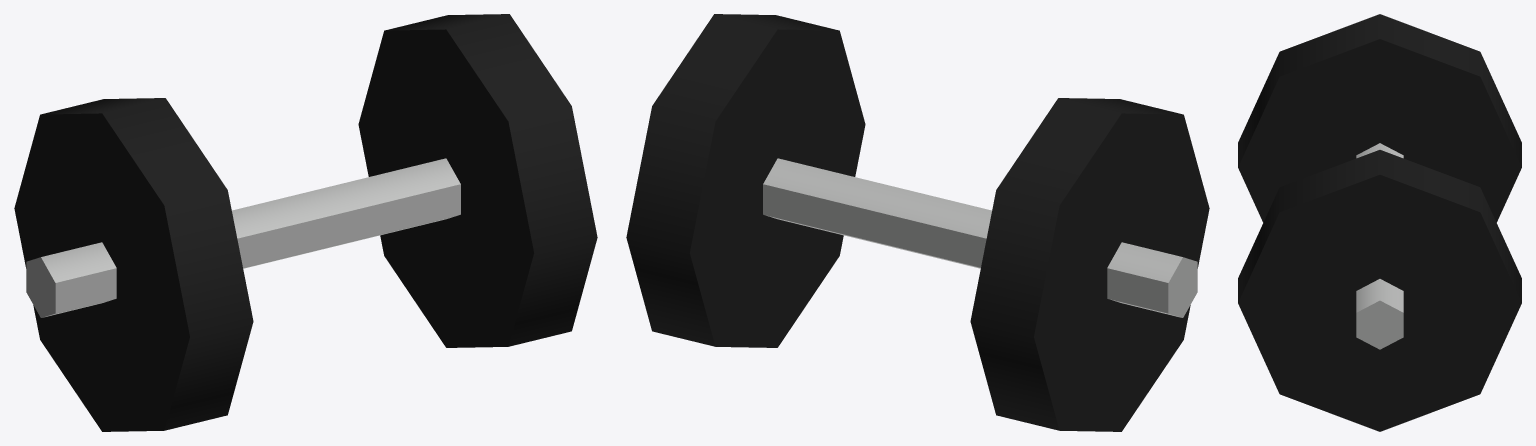
File: SM_dumbbell_001.FBX
3 renders of one model, left to right at view 1: azimuth 30°, elevation 25°; view 2: azimuth 150°, elevation 25°; view 3: azimuth 270°, elevation 25°, orthographic. The views are drawn at different scales.
Visible parts, largest first — view 1: SM_dumbbell_001; view 2: SM_dumbbell_001; view 3: SM_dumbbell_001.
Part boxes in pixels (x1,y1,x2,y2): SM_dumbbell_001: (14,14,597,431); SM_dumbbell_001: (626,14,1209,431); SM_dumbbell_001: (1238,14,1521,431).
Bounding box in the file's own units: 39.91 × 23.18 × 23.18.
